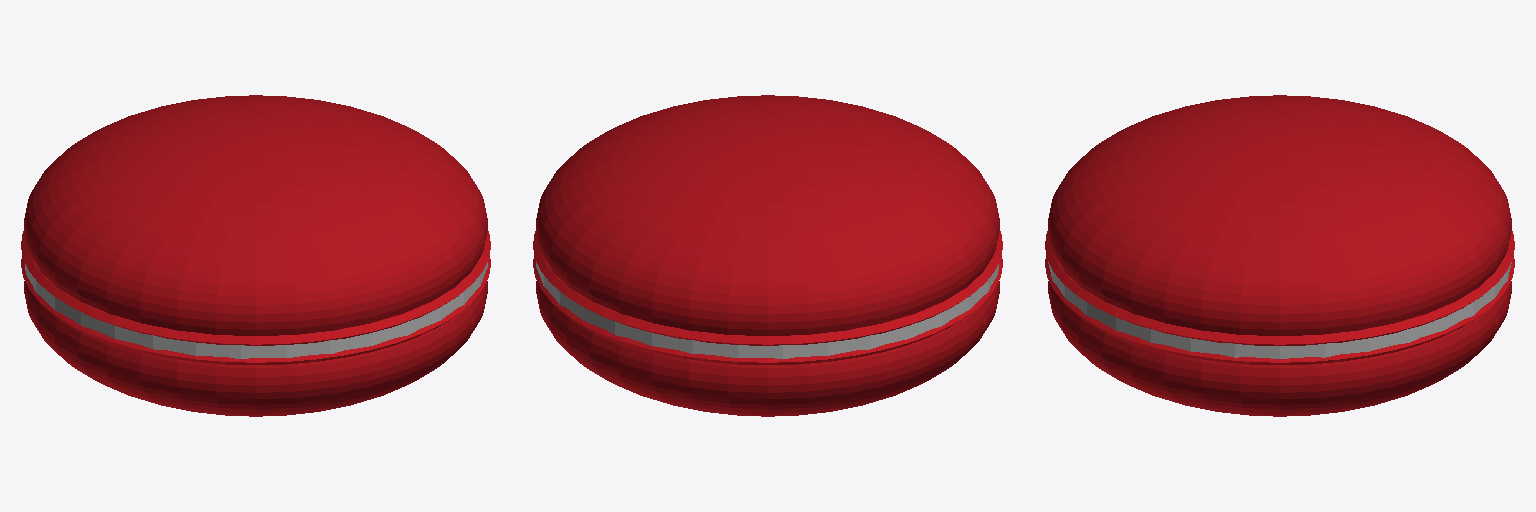
File: makalong1.obj
3 views of the same model, side by side, from view 1: azimuth 30°, elevation 25°; view 2: azimuth 150°, elevation 25°; view 3: azimuth 270°, elevation 25° (orthographic).
Visible parts, largest first — view 1: Sphere_Sphere.001, Sphere.001_Sphere.002, Cylinder, Torus.001, Torus; view 2: Sphere_Sphere.001, Sphere.001_Sphere.002, Cylinder, Torus.001, Torus; view 3: Sphere_Sphere.001, Sphere.001_Sphere.002, Cylinder, Torus.001, Torus.
Part boxes in pixels (bbox=[...]): Sphere_Sphere.001: bbox=[24, 95, 487, 335]; Sphere.001_Sphere.002: bbox=[24, 281, 487, 416]; Cylinder: bbox=[25, 262, 487, 358]; Torus.001: bbox=[21, 231, 490, 345]; Torus: bbox=[21, 256, 490, 364]; Sphere_Sphere.001: bbox=[536, 95, 999, 335]; Sphere.001_Sphere.002: bbox=[536, 281, 999, 416]; Cylinder: bbox=[536, 262, 998, 358]; Torus.001: bbox=[533, 231, 1002, 345]; Torus: bbox=[533, 256, 1002, 364]; Sphere_Sphere.001: bbox=[1048, 95, 1511, 335]; Sphere.001_Sphere.002: bbox=[1048, 281, 1511, 416]; Cylinder: bbox=[1048, 262, 1511, 358]; Torus.001: bbox=[1045, 231, 1514, 345]; Torus: bbox=[1045, 256, 1514, 364].
Size of the model in its own units: 2.02 by 1.1 by 2.02.